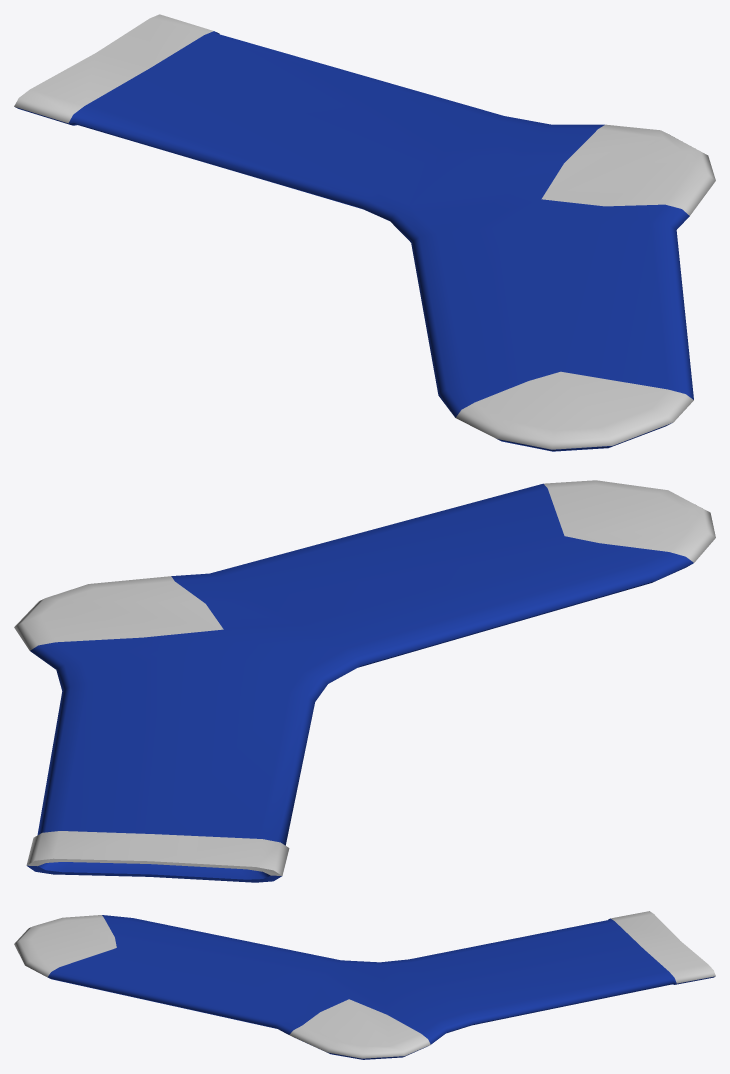
File: chaussette.obj
3 renders of one model, top to bottom at view 1: azimuth 30°, elevation 25°; view 2: azimuth 150°, elevation 25°; view 3: azimuth 270°, elevation 25°, orthographic. The views are drawn at different scales.
Parts seen in each view (by area): view 1: chaussette; view 2: chaussette; view 3: chaussette.
Boxes of the visible parts, <box> form: chaussette: <box>14,14,715,451</box>; chaussette: <box>14,480,715,882</box>; chaussette: <box>14,911,715,1059</box>.
Size of the model in its own units: 17.21 by 0.7014 by 34.93.
